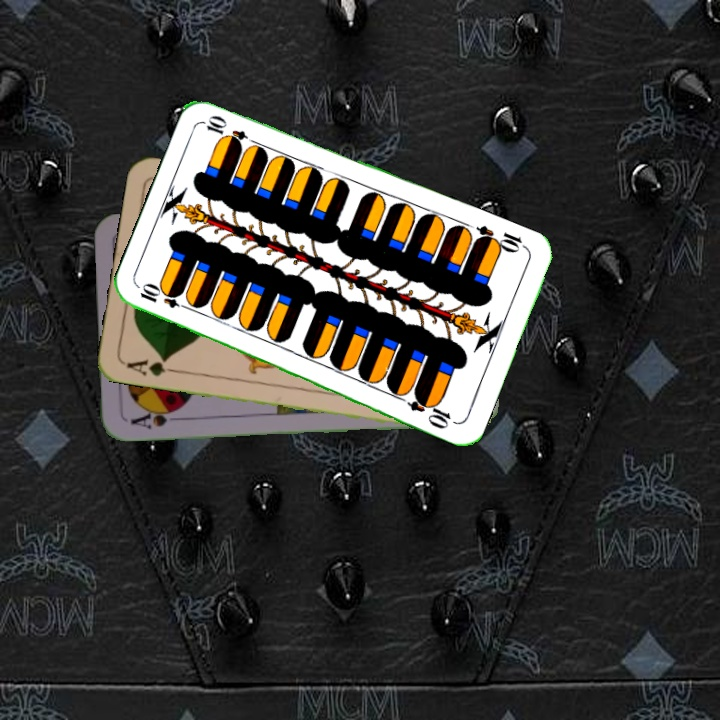E10: (470, 221, 530, 256), (136, 281, 194, 313)
GA: (122, 354, 180, 379)
SA: (127, 404, 184, 431)
